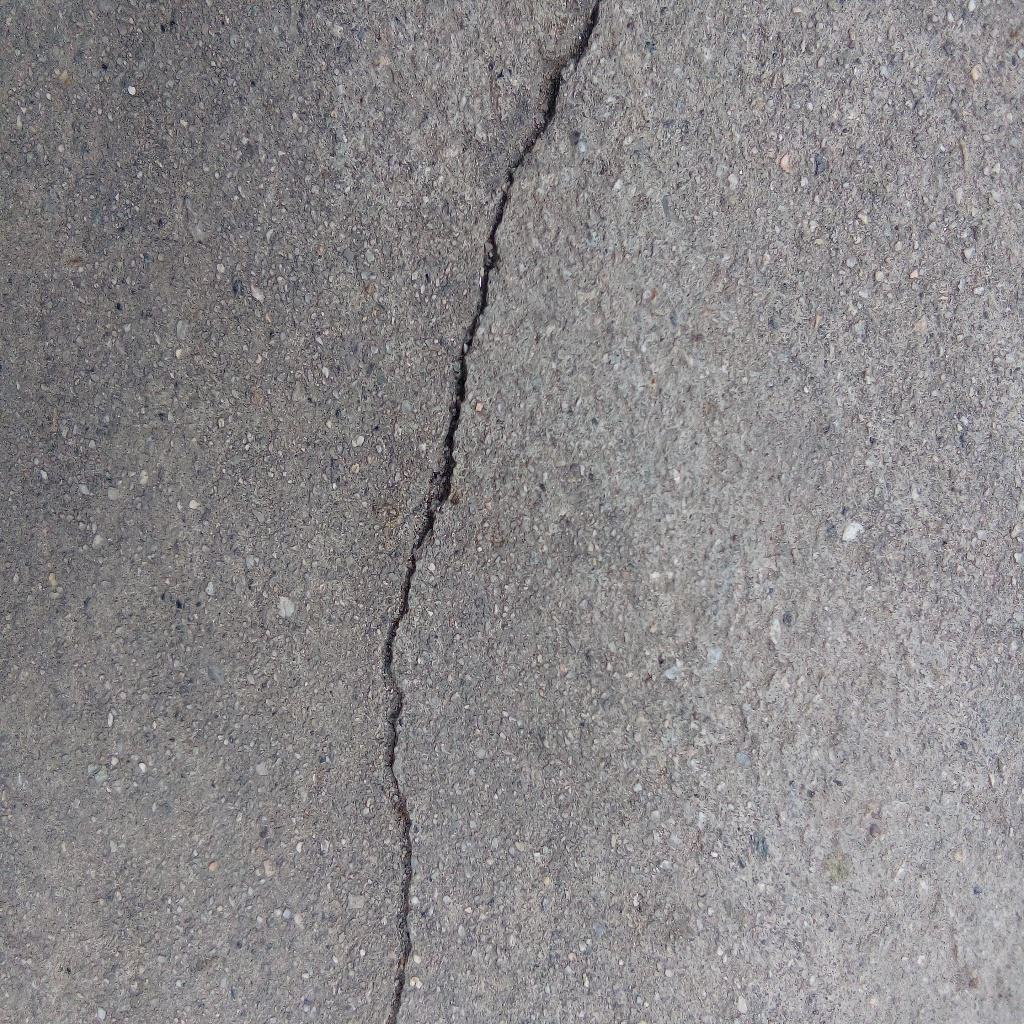Crack: (383, 1, 600, 1024)
